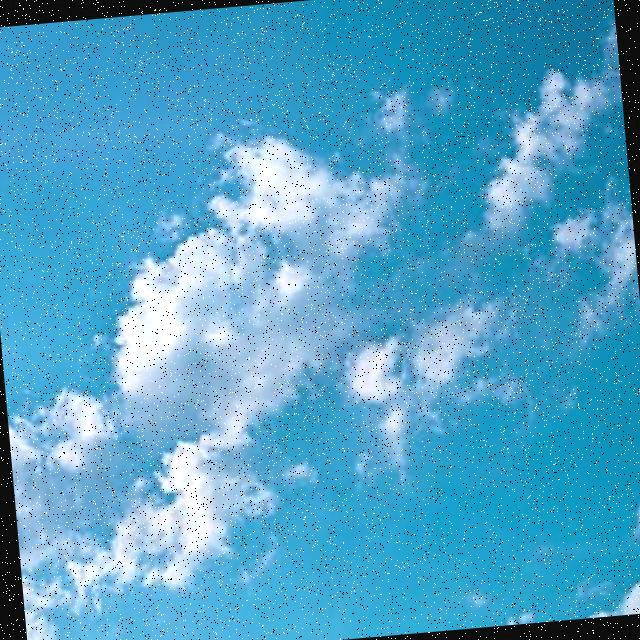Cc: (1, 105, 501, 572)
